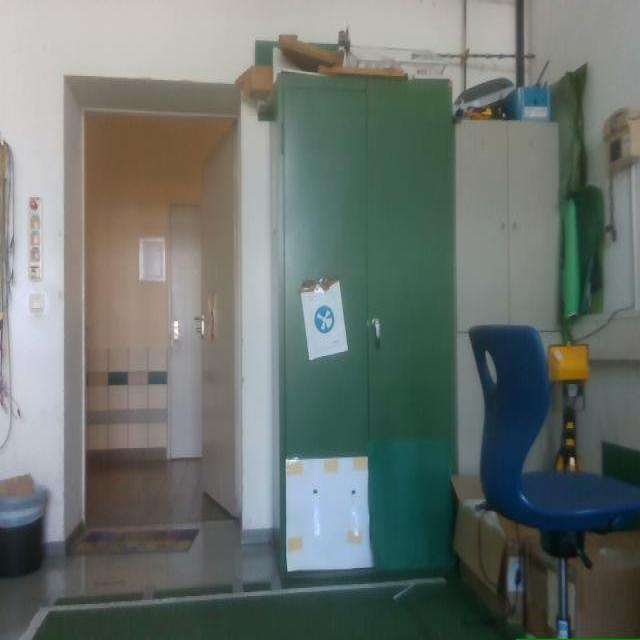objects: (470, 325, 639, 636)
